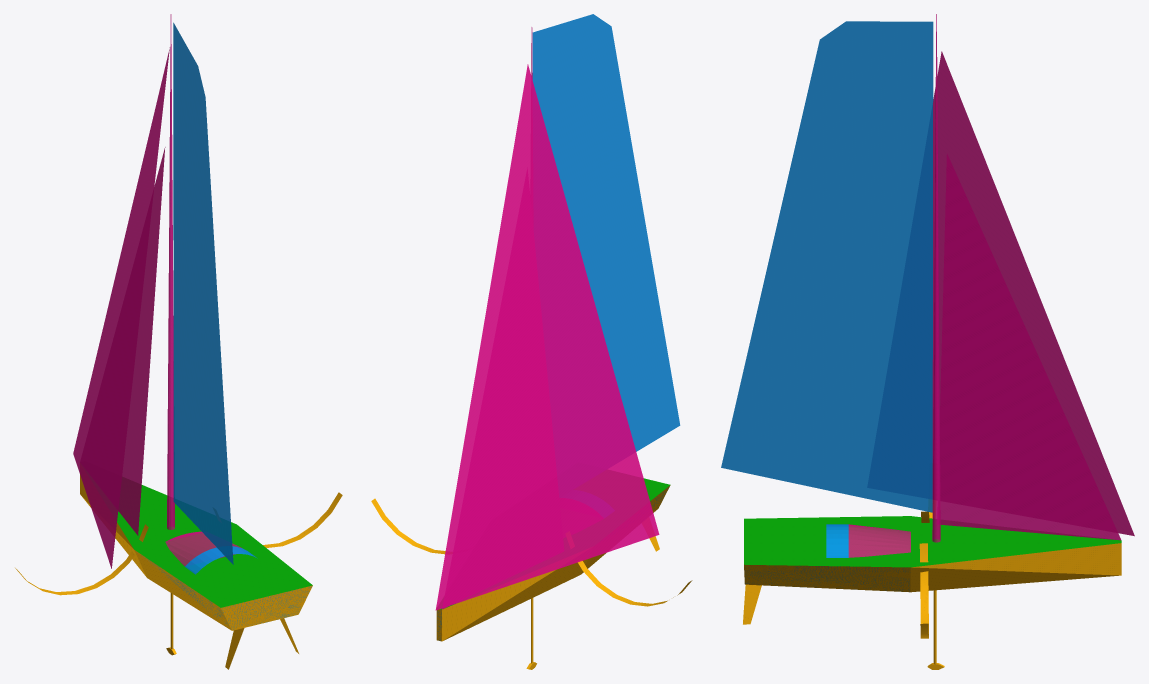
File: IMOCA_GENOIS_TRIBORD.dae
3 renders of one model, left to right at view 1: azimuth 30°, elevation 25°; view 2: azimuth 150°, elevation 25°; view 3: azimuth 270°, elevation 25°, orthographic. The views are drawn at different scales.
Visible parts, largest first — view 1: SketchUp (×11); view 2: SketchUp (×4); view 3: SketchUp (×10).
Part boxes in pixels (box(x1,y1,x2,y2)): SketchUp (×11): box(15, 14, 342, 630); SketchUp (×4): box(435, 14, 692, 641); SketchUp (×10): box(721, 14, 1134, 638).
Bounding box in the file's own units: 71165 × 77671 × 135626.
